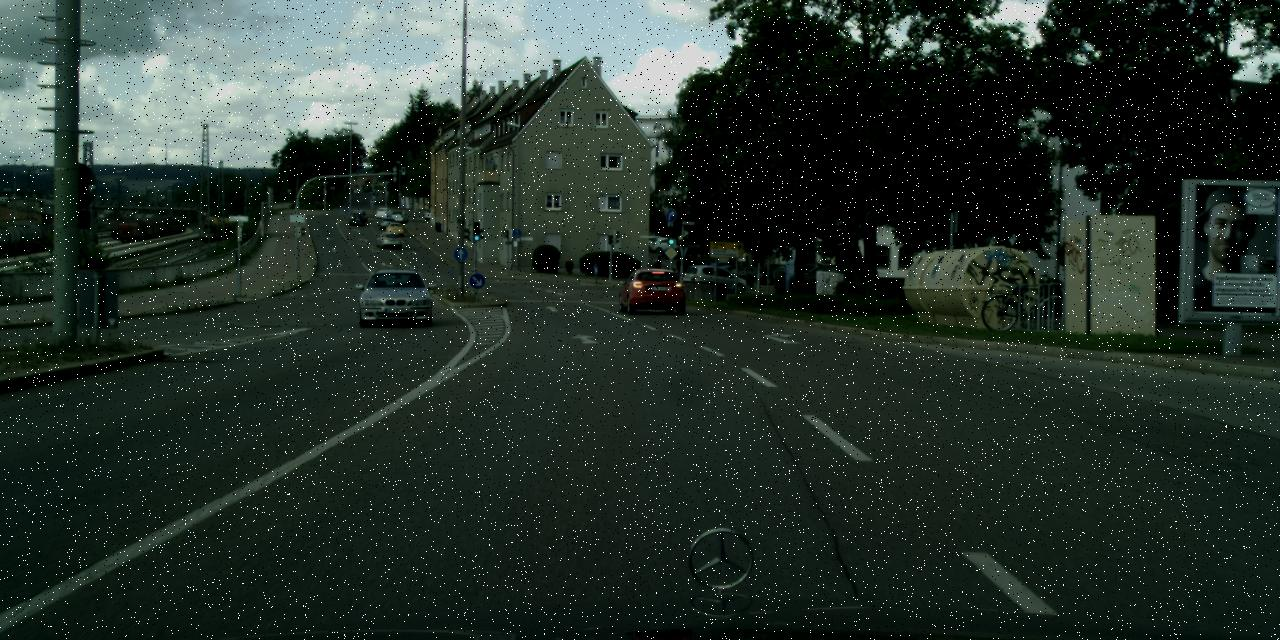ped: (652, 255, 662, 277)
